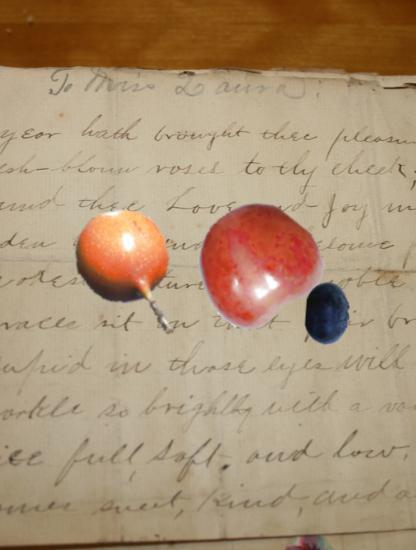Blueberry: (296, 282, 360, 346)
Cherry: (195, 204, 319, 328)
Granadilla: (59, 208, 195, 344)
